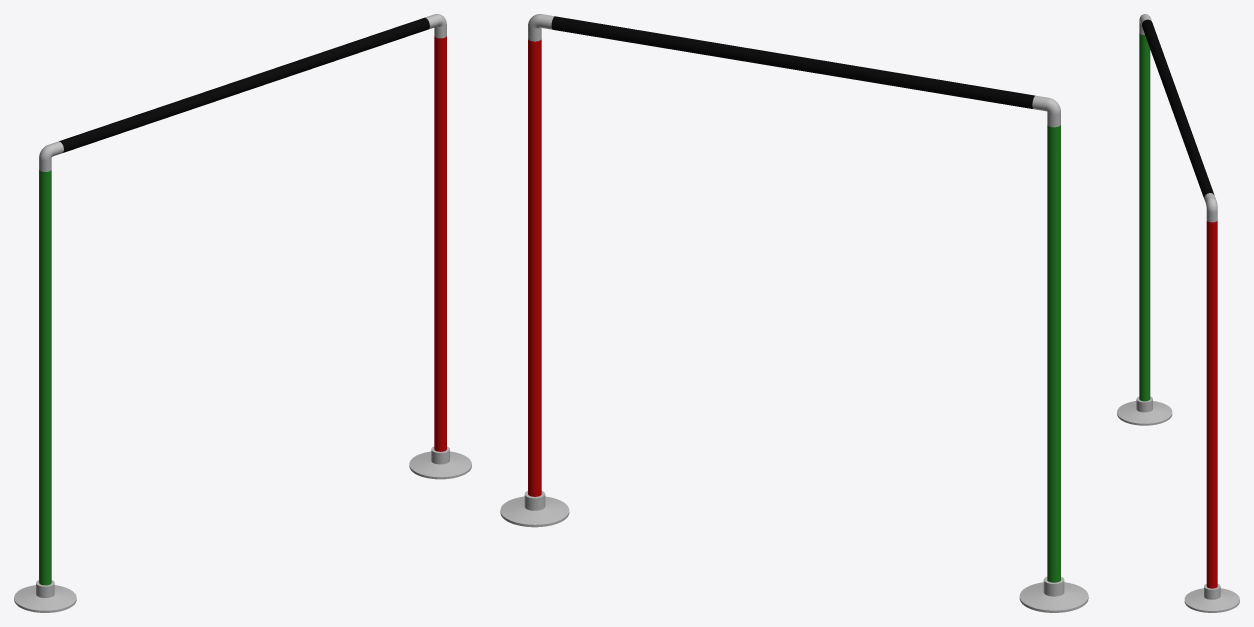
The model's file is Gate0.obj.
3 renders of one model, left to right at view 1: azimuth 30°, elevation 25°; view 2: azimuth 150°, elevation 25°; view 3: azimuth 270°, elevation 25°, orthographic. The views are drawn at different scales.
Visible parts, largest first — view 1: Bryła1:4, Bryła1, Bryła1:1, Bryła1:5, Bryła1:6; view 2: Bryła1:1, Bryła1, Bryła1:4, Bryła1:5, Bryła1:6; view 3: Bryła1:4, Bryła1, Bryła1:1, Bryła1:6, Bryła1:5, Bryła1:3.
Boxes of the visible parts, box(x1,y1,x2,y2) form: Bryła1:4: box(434, 36, 446, 451); Bryła1: box(39, 170, 51, 585); Bryła1:1: box(59, 17, 429, 152); Bryła1:5: box(409, 446, 471, 479); Bryła1:6: box(14, 580, 76, 612); Bryła1:1: box(551, 16, 1034, 108); Bryła1: box(1047, 125, 1060, 582); Bryła1:4: box(528, 39, 541, 496); Bryła1:5: box(500, 491, 569, 527); Bryła1:6: box(1019, 576, 1088, 612); Bryła1:4: box(1206, 221, 1217, 588); Bryła1: box(1139, 33, 1150, 401); Bryła1:1: box(1142, 19, 1214, 198); Bryła1:6: box(1117, 396, 1172, 425); Bryła1:5: box(1184, 584, 1239, 612); Bryła1:3: box(1204, 193, 1217, 222).
Size of the model in its own units: 1802 by 1600 by 444.
